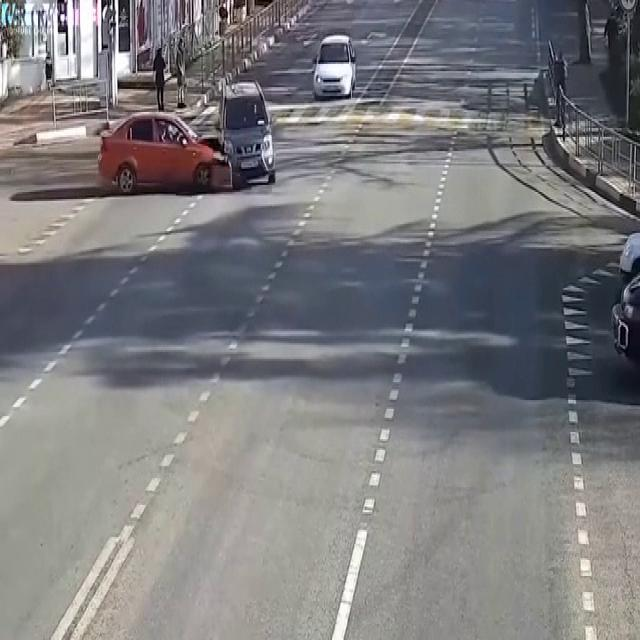accident: (165, 97, 292, 204)
